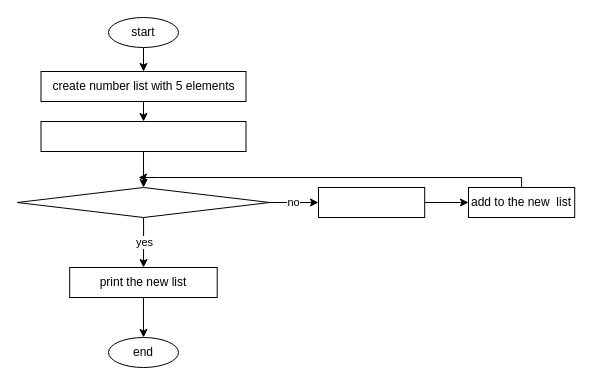
Image size: 593x385. Some labels were removed from this diagram. Here are the shapes that lost their labels. From the top down, the centre of each, then its label:
At (143,136): "create new empty number list".
At (143,202): "last element of number list A".
At (371,202): "double the element".
